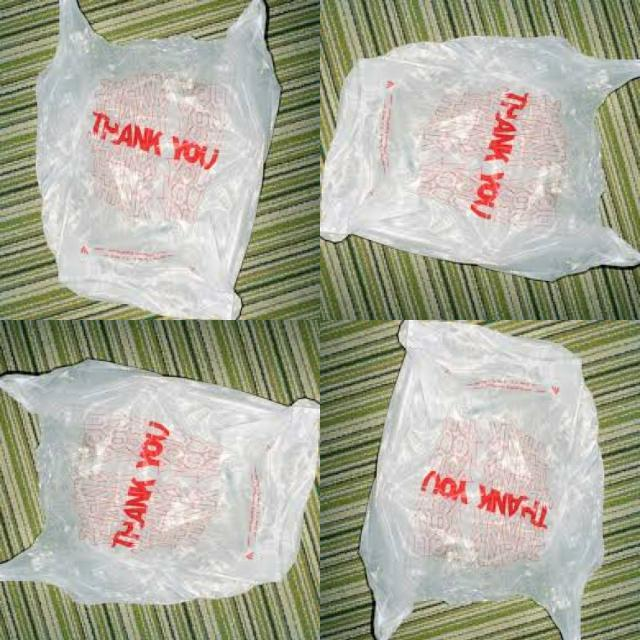Single-layer Plastic: (36, 0, 280, 320), (360, 320, 604, 640), (321, 36, 640, 280), (0, 360, 319, 604)
